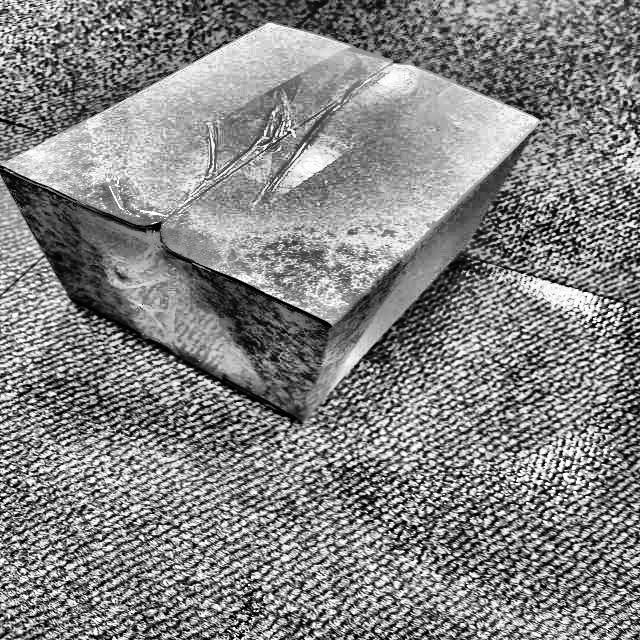box: (0, 16, 545, 429)
wet: (194, 244, 399, 430), (0, 119, 106, 320)
